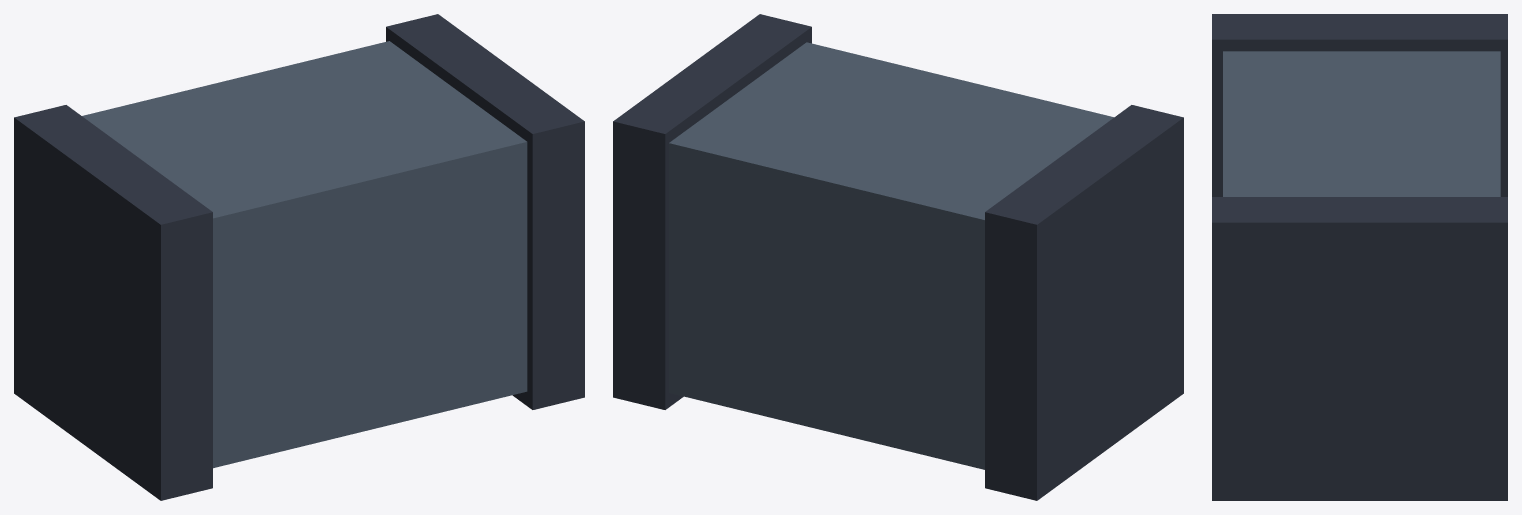
Rendered from Vent_2_A_4.glb.
3 renders of one model, left to right at view 1: azimuth 30°, elevation 25°; view 2: azimuth 150°, elevation 25°; view 3: azimuth 270°, elevation 25°, orthographic.
Parts seen in each view (by area): view 1: Vent_2_A_4; view 2: Vent_2_A_4; view 3: Vent_2_A_4.
Part boxes in pixels (x1,y1,x2,y2): Vent_2_A_4: (14,14,584,500); Vent_2_A_4: (613,14,1183,500); Vent_2_A_4: (1212,14,1507,500).
Bounding box in the file's own units: 0.5943 × 0.3698 × 0.3562.
Materials: 1 (1 with a texture image).
